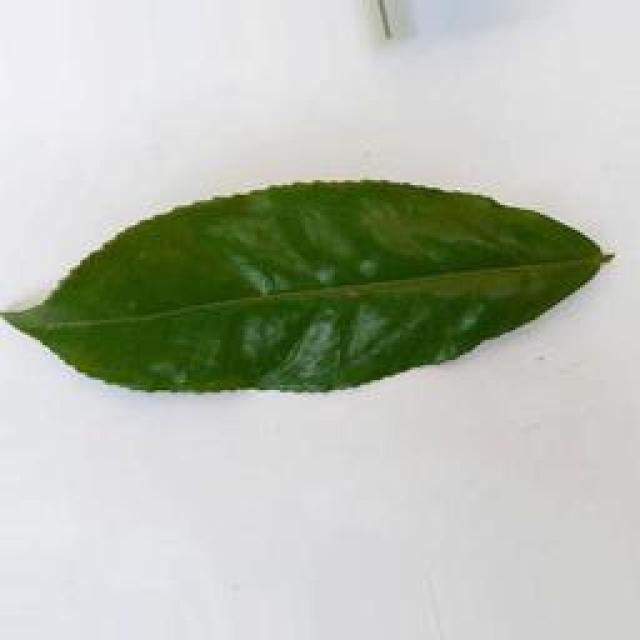Healthy: (0, 172, 640, 400)
